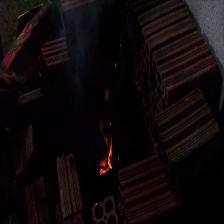fire: (96, 133, 116, 177)
